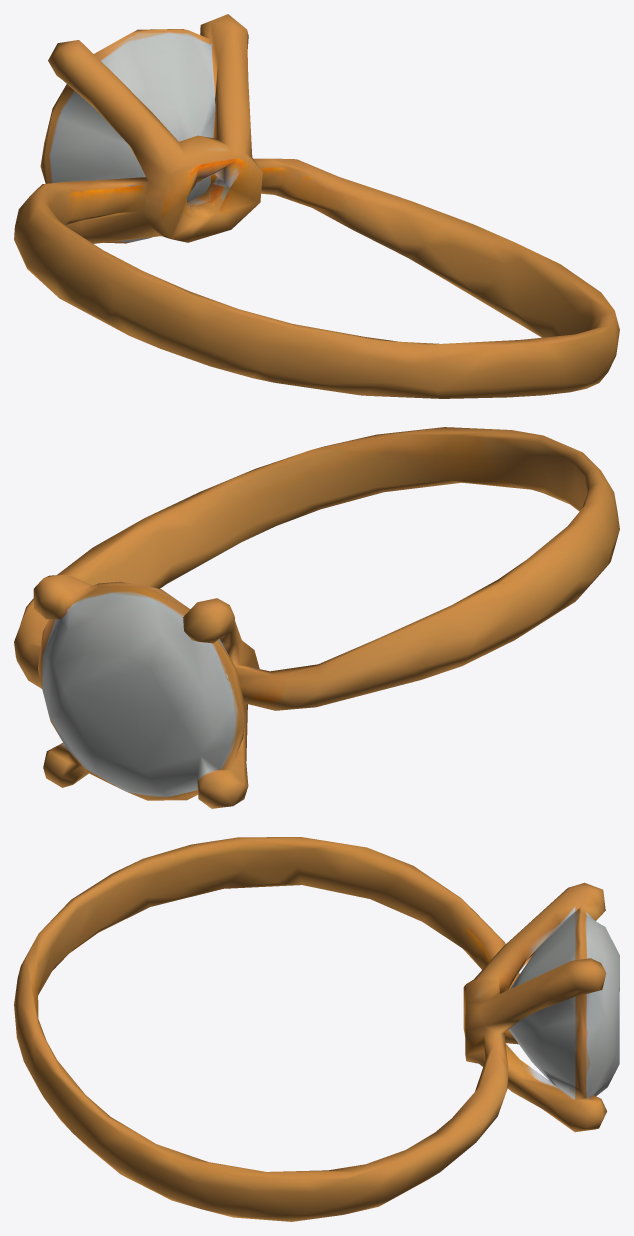
The model's file is ExquisiteRoseGold_low.glb.
3 views of the same model, one above another, from view 1: azimuth 30°, elevation 25°; view 2: azimuth 150°, elevation 25°; view 3: azimuth 270°, elevation 25° (orthographic). The views are drawn at different scales.
Parts seen in each view (by area): view 1: node0; view 2: node0; view 3: node0.
Part boxes in pixels (left/top/right/bottom): node0: left=14, top=14, right=619, bottom=398; node0: left=14, top=427, right=619, bottom=808; node0: left=14, top=837, right=619, bottom=1221.
Size of the model in its own units: 0.8191 by 0.3591 by 0.9503.
1 material, 1 textured.
